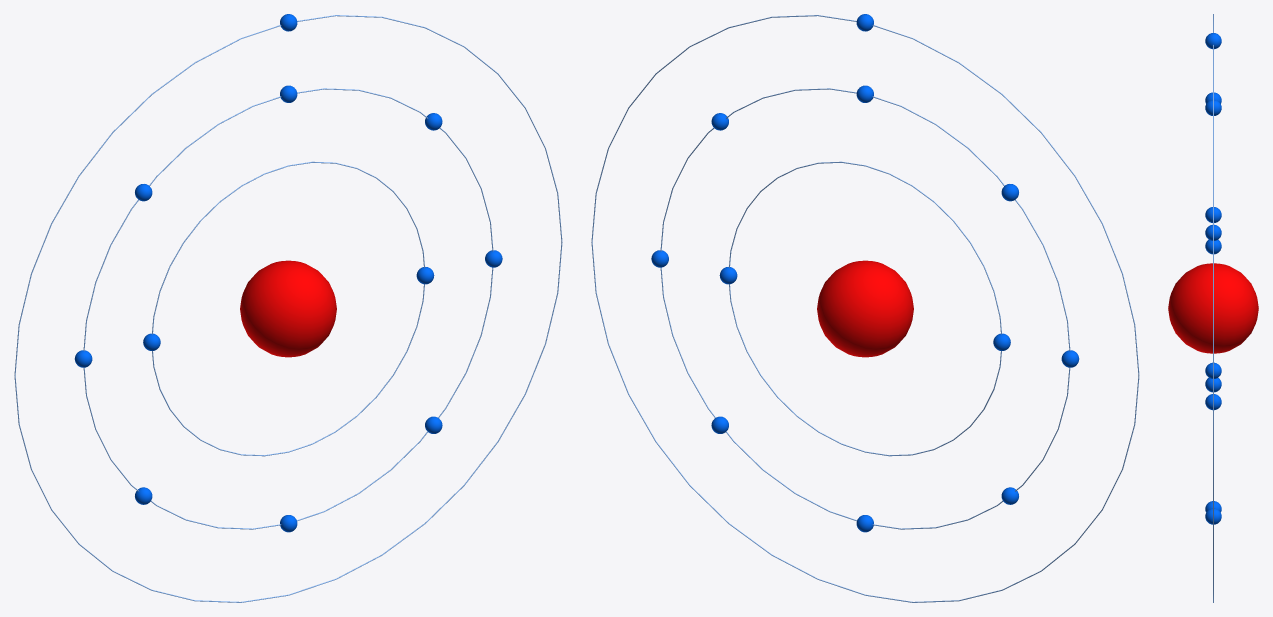
Rendered from Na(나트륨).fbx.
The picture shows the model from 3 angles, left to right: view 1: azimuth 30°, elevation 25°; view 2: azimuth 150°, elevation 25°; view 3: azimuth 270°, elevation 25°; orthographic projection. The views are drawn at different scales.
Parts seen in each view (by area): view 1: 구, 도넛_2, 도넛_1, 도넛; view 2: 구, 도넛_2, 도넛_1, 도넛; view 3: 구, 도넛_2, 구_1, 구_1_4, 구_1_3, 구_1_8, 구_1_2, 구_1_1_2, 구_1_5, 구_1_2_2, 구_1_7.
Part boxes in pixels (box(x1,y1,x2,y2)): 구: box(240, 260, 336, 357); 도넛_2: box(14, 15, 562, 602); 도넛_1: box(83, 88, 493, 529); 도넛: box(152, 161, 424, 456); 구: box(817, 260, 913, 357); 도넛_2: box(591, 15, 1139, 602); 도넛_1: box(660, 88, 1070, 529); 도넛: box(729, 161, 1001, 456); 구: box(1168, 263, 1258, 353); 도넛_2: box(1213, 14, 1213, 602); 구_1: box(1205, 33, 1221, 49); 구_1_4: box(1205, 394, 1221, 410); 구_1_3: box(1205, 224, 1221, 240); 구_1_8: box(1205, 207, 1221, 222); 구_1_2: box(1205, 100, 1221, 115); 구_1_1_2: box(1205, 362, 1221, 378); 구_1_5: box(1205, 508, 1221, 524); 구_1_2_2: box(1205, 239, 1221, 254); 구_1_7: box(1205, 378, 1221, 392).
Bounding box in the file's own units: 321 × 325 × 49.18.
